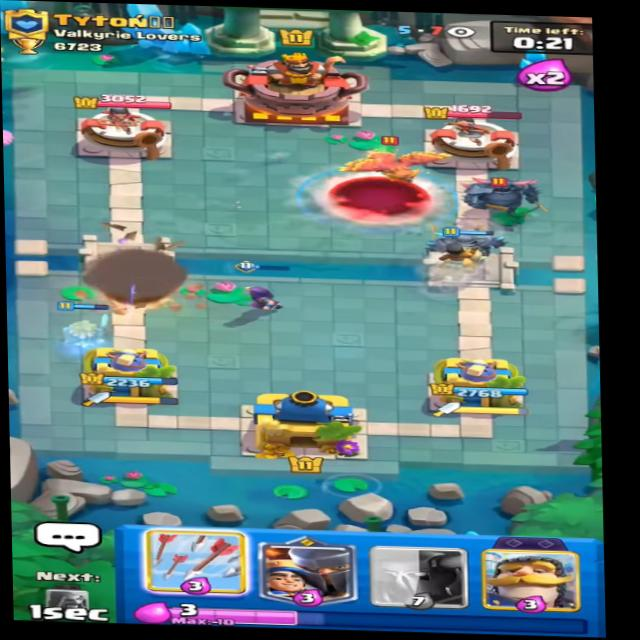Pekka: (461, 169, 552, 212)
Pheonix: (341, 138, 461, 187)
